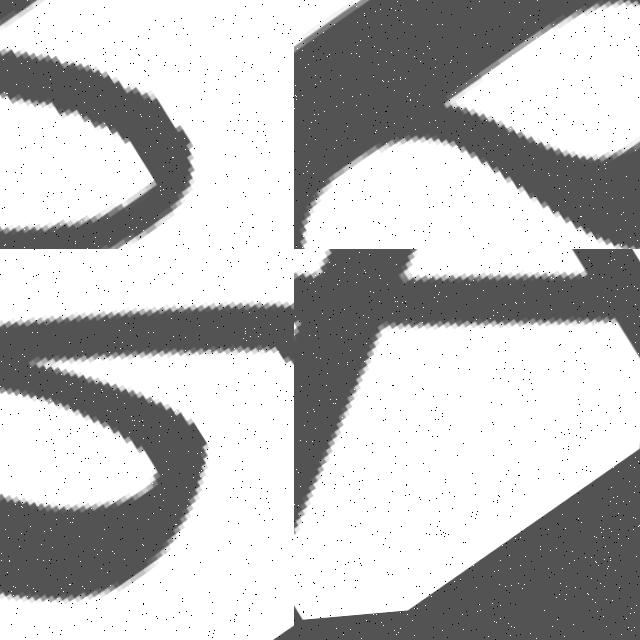9: (0, 249, 294, 640)
A: (294, 0, 640, 249)
Q: (0, 0, 294, 249)
X: (294, 249, 640, 640)
